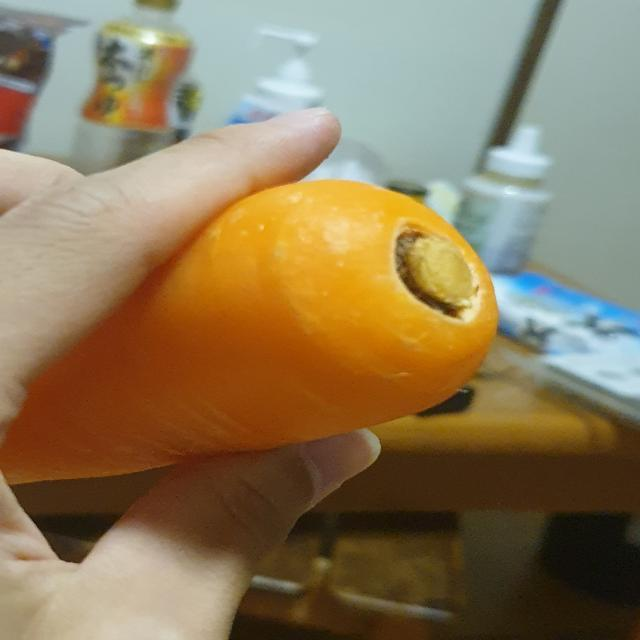carrot: (1, 173, 516, 495)
